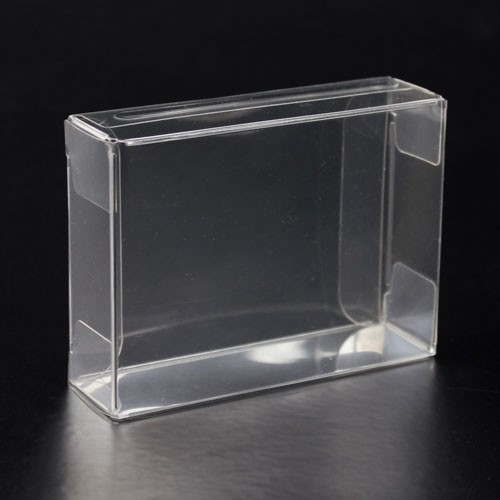PlasticBox: (60, 70, 453, 429)
